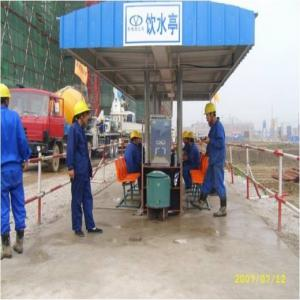yellow: (73, 100, 91, 127), (2, 84, 12, 111), (205, 104, 217, 126), (129, 130, 140, 146), (188, 133, 195, 146), (182, 132, 188, 145)
